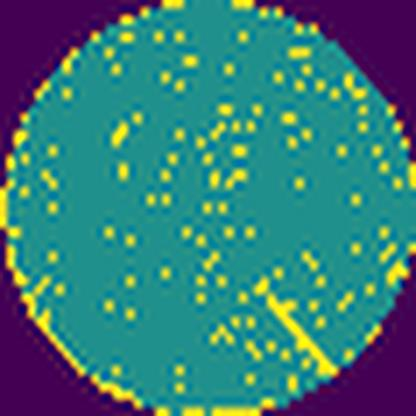Scratch: (258, 284, 342, 377)
